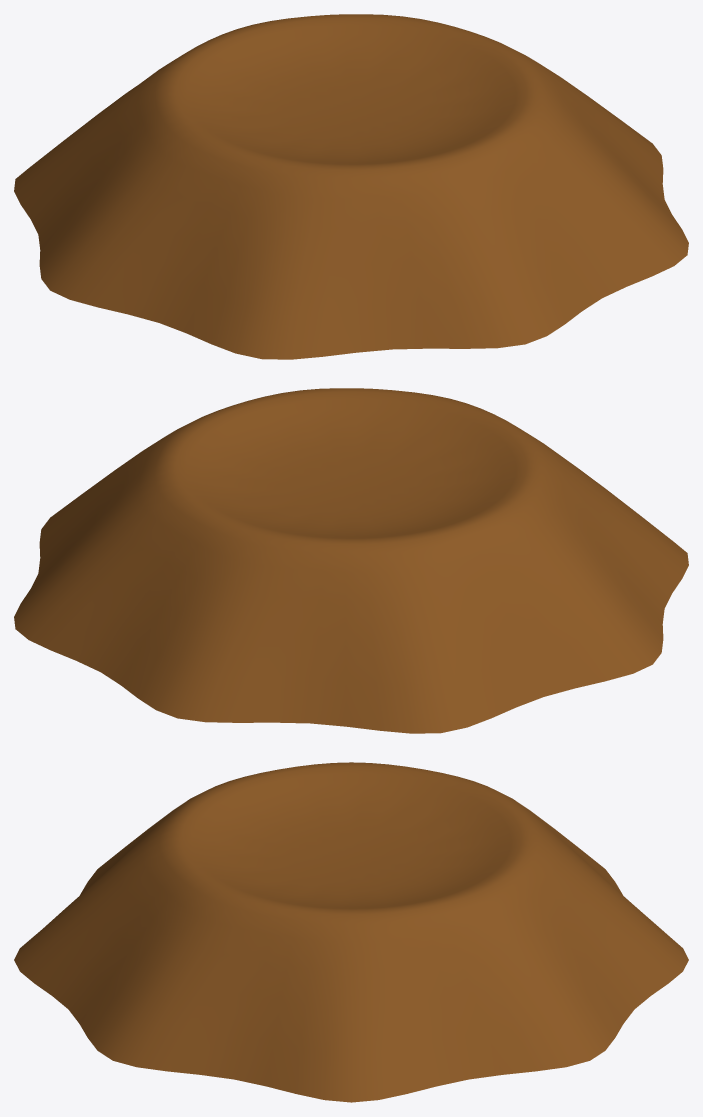
The model's file is treebase.fbx.
The picture shows the model from 3 angles, top to bottom: view 1: azimuth 30°, elevation 25°; view 2: azimuth 150°, elevation 25°; view 3: azimuth 270°, elevation 25°; orthographic projection. The views are drawn at different scales.
Visible parts, largest first — view 1: Circle.002; view 2: Circle.002; view 3: Circle.002.
Boxes of the visible parts, <box> form: Circle.002: <box>14,14,688,359</box>; Circle.002: <box>14,388,688,733</box>; Circle.002: <box>14,762,688,1102</box>.
Bounding box in the file's own units: 143 × 28.32 × 143.
